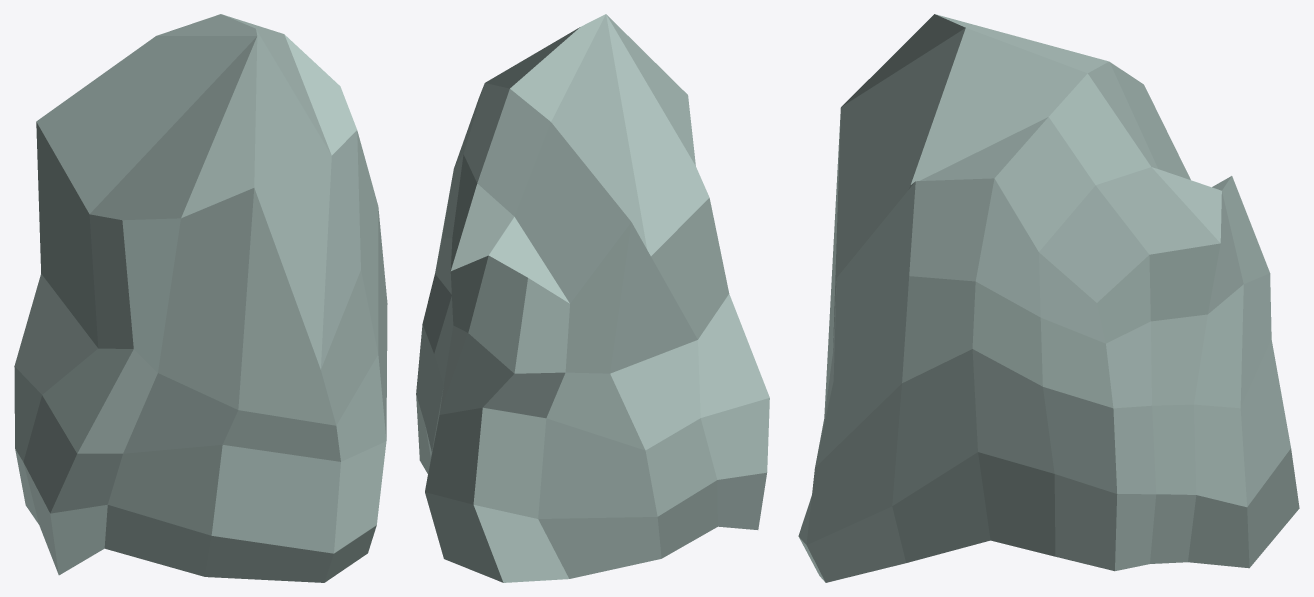
The model's file is Rock3.fbx.
3 renders of one model, left to right at view 1: azimuth 30°, elevation 25°; view 2: azimuth 150°, elevation 25°; view 3: azimuth 270°, elevation 25°, orthographic. The views are drawn at different scales.
Parts seen in each view (by area): view 1: Cube.015_Cube.012; view 2: Cube.015_Cube.012; view 3: Cube.015_Cube.012.
Part boxes in pixels (x1,y1,x2,y2): Cube.015_Cube.012: (14, 14, 387, 582); Cube.015_Cube.012: (416, 14, 769, 582); Cube.015_Cube.012: (798, 14, 1299, 582).
Size of the model in its own units: 740 by 1124 by 921.
